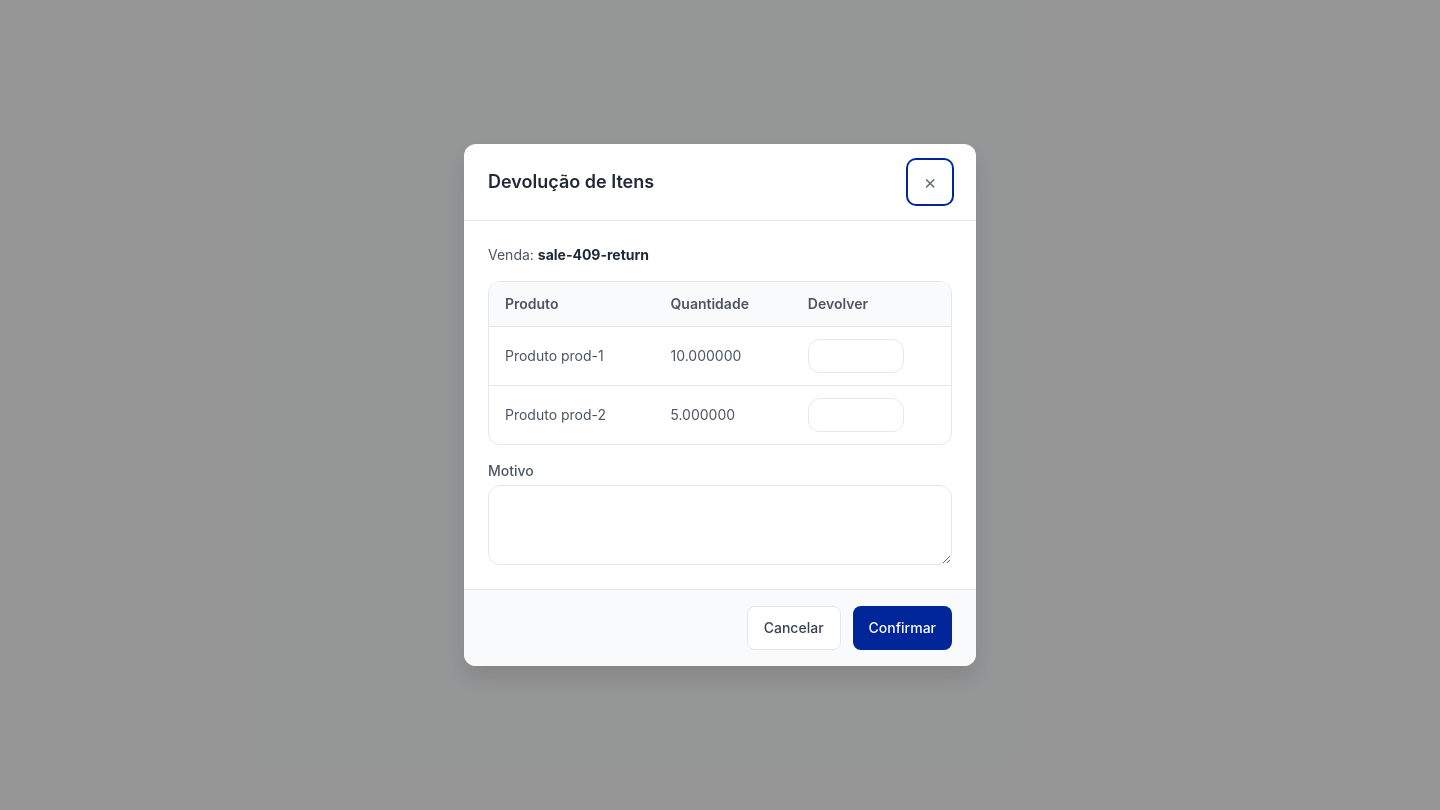
Test case: ReturnDialog › handles 409 already-returned error
Expected: the text "Produto prod-1" is shown, [489,326,654,386]
In the number field with test id "^return-qty-": (856, 356) [808,339,904,373], type "2"
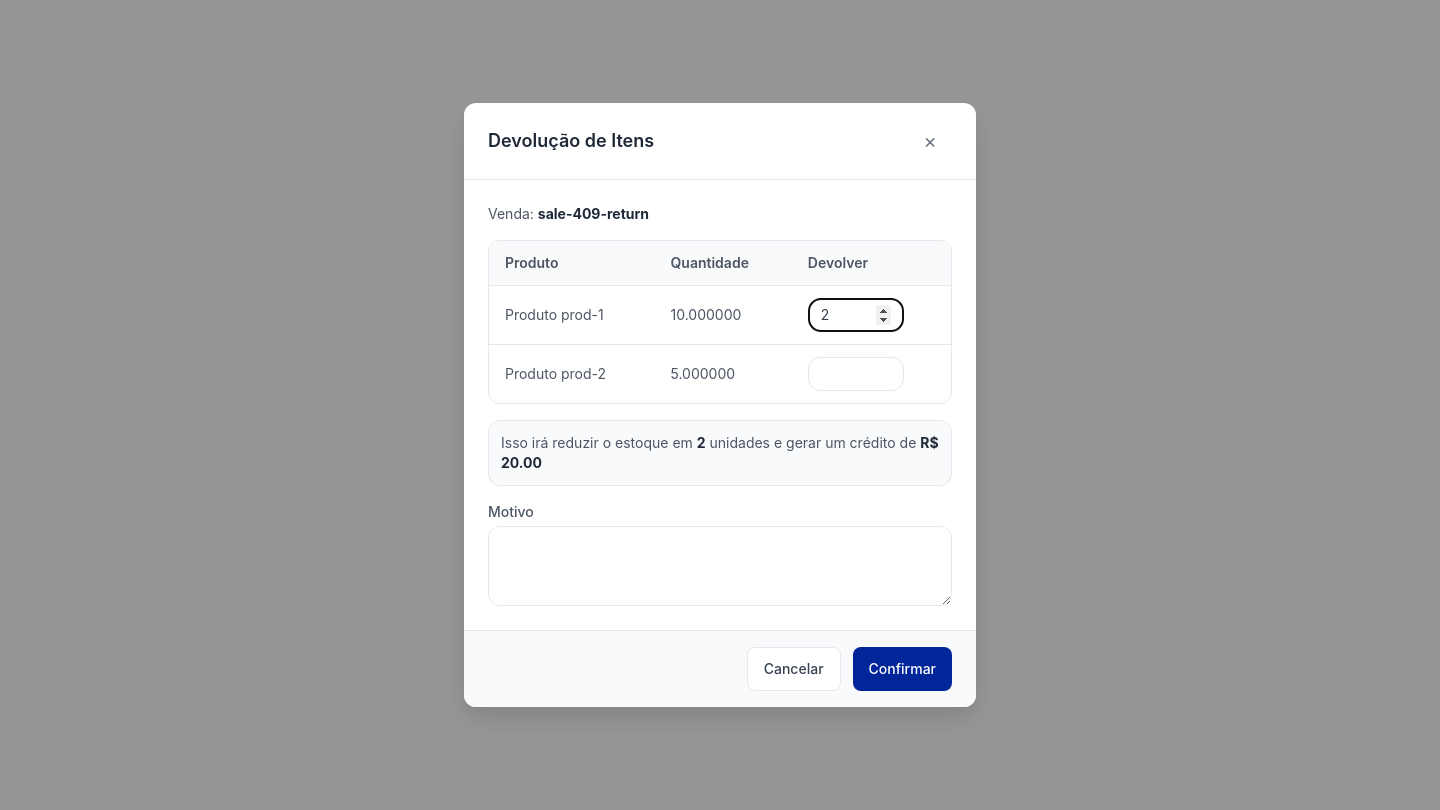
In the text box with test id "return-reason": (720, 566) [488,526,952,606], type "Defeito"
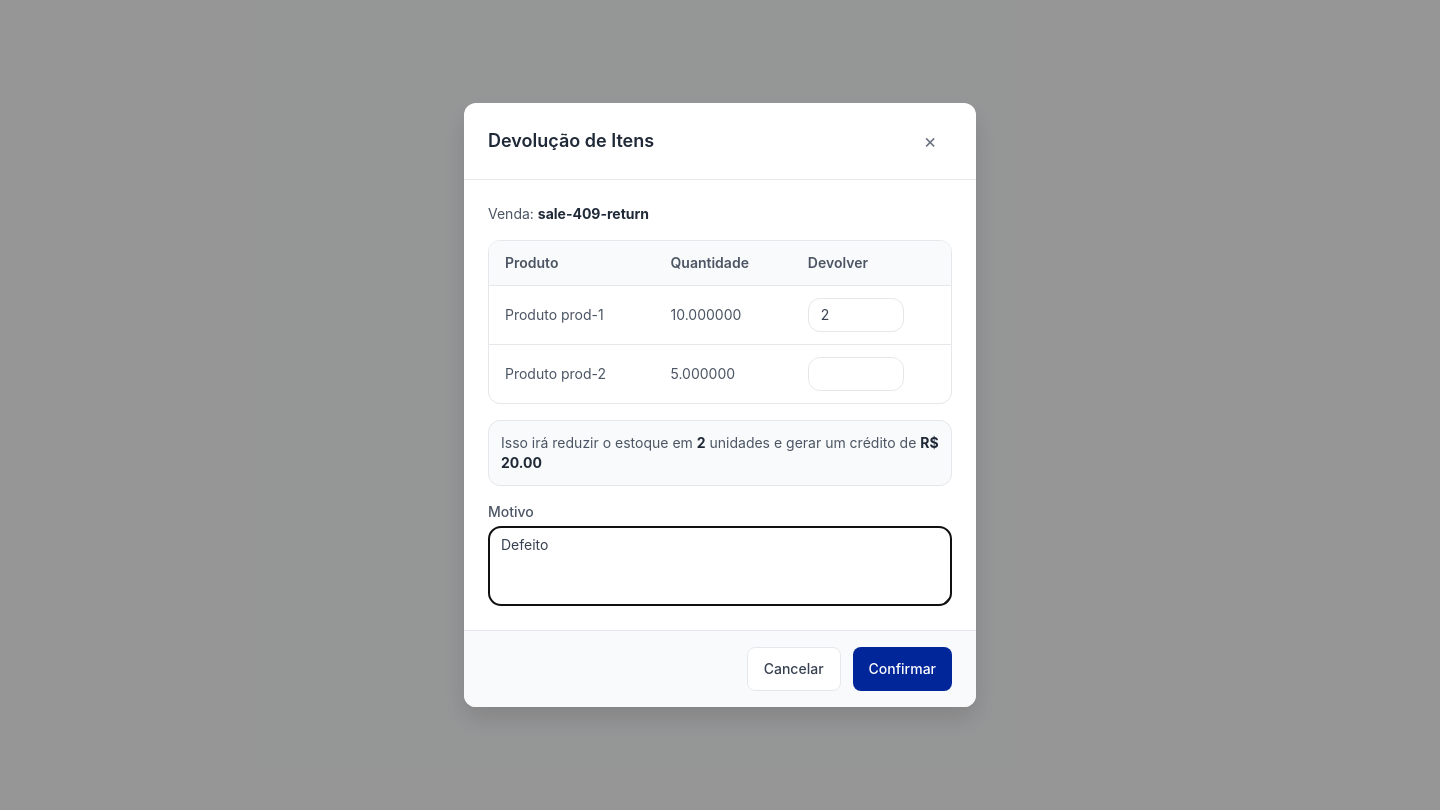
Click the button "Confirmar": (902, 669) [853,647,952,691]
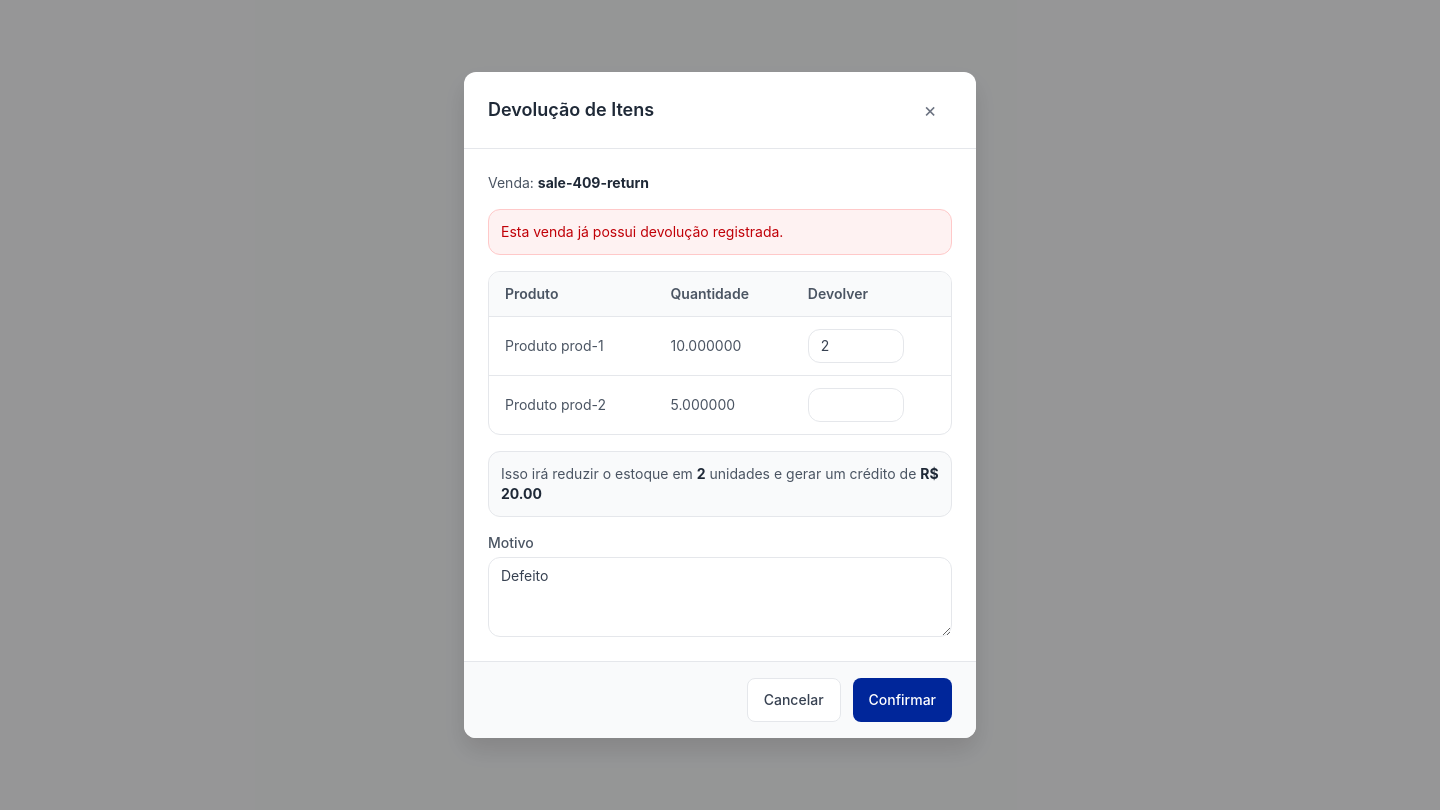
Expected: the message with test id "return-error" shows "já possui devolução", [501,223,783,240]
